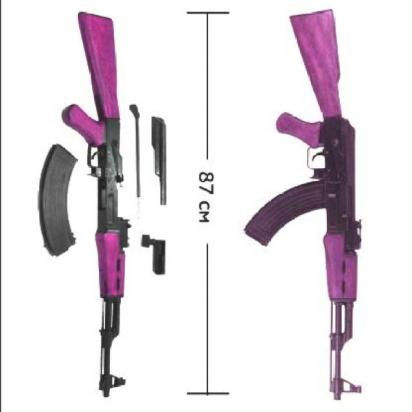Gun: (233, 7, 378, 398), (16, 13, 148, 396)
